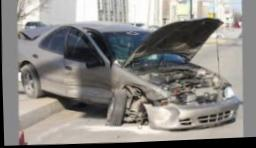Bonnet: (122, 18, 230, 95)
Bumper: (142, 92, 239, 132)
Light: (150, 96, 179, 105), (225, 89, 236, 101)
